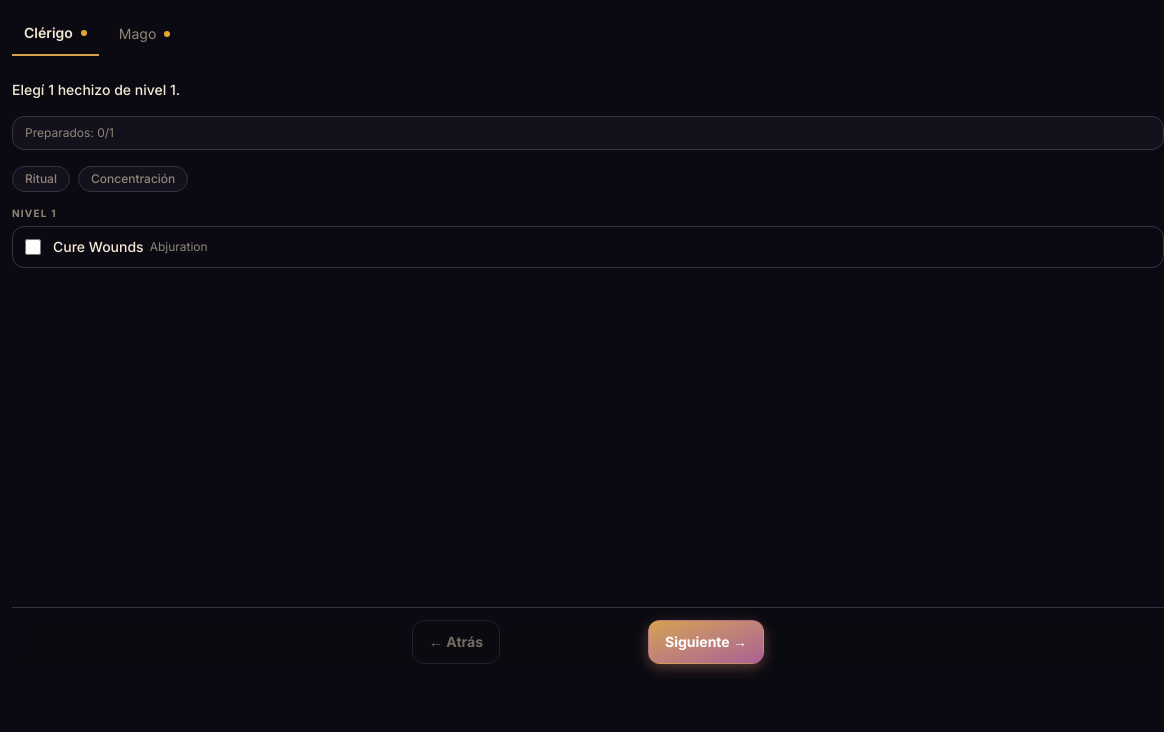
Test: MulticlassSpellsView — tab switch preserves picks (REQ-SP06-TAB-ACTIVE) › 6.2: switching to Wizard tab then back to Cleric tab shows Cleric picker again
Expected: the text "Cure Wounds" is shown, [53,237,144,257]
// Click Wizard tab
Click the tab "Mago".
click(145, 34)  # box [107,12,182,56]
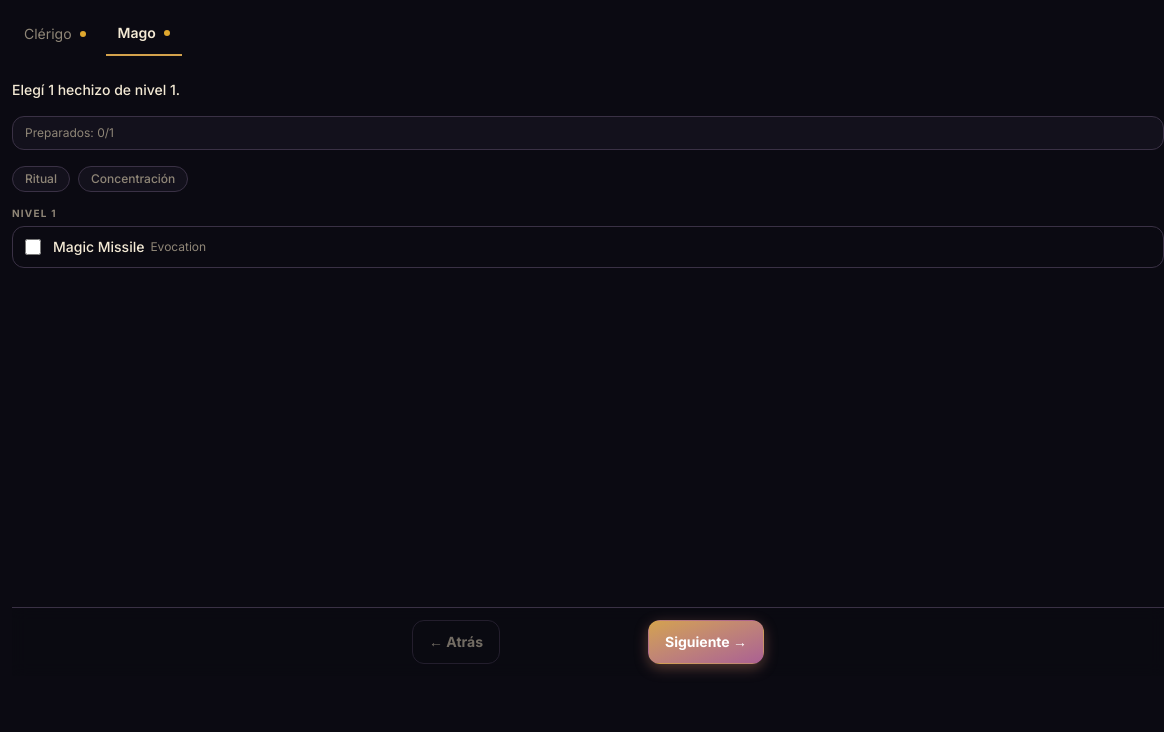
Expected: the text "Magic Missile" is shown, [53,237,144,257]
Expected: the text "Cure Wounds" is gone
// Click back to Cleric tab
Click the tab "Clérigo".
click(55, 34)  # box [12,12,98,56]
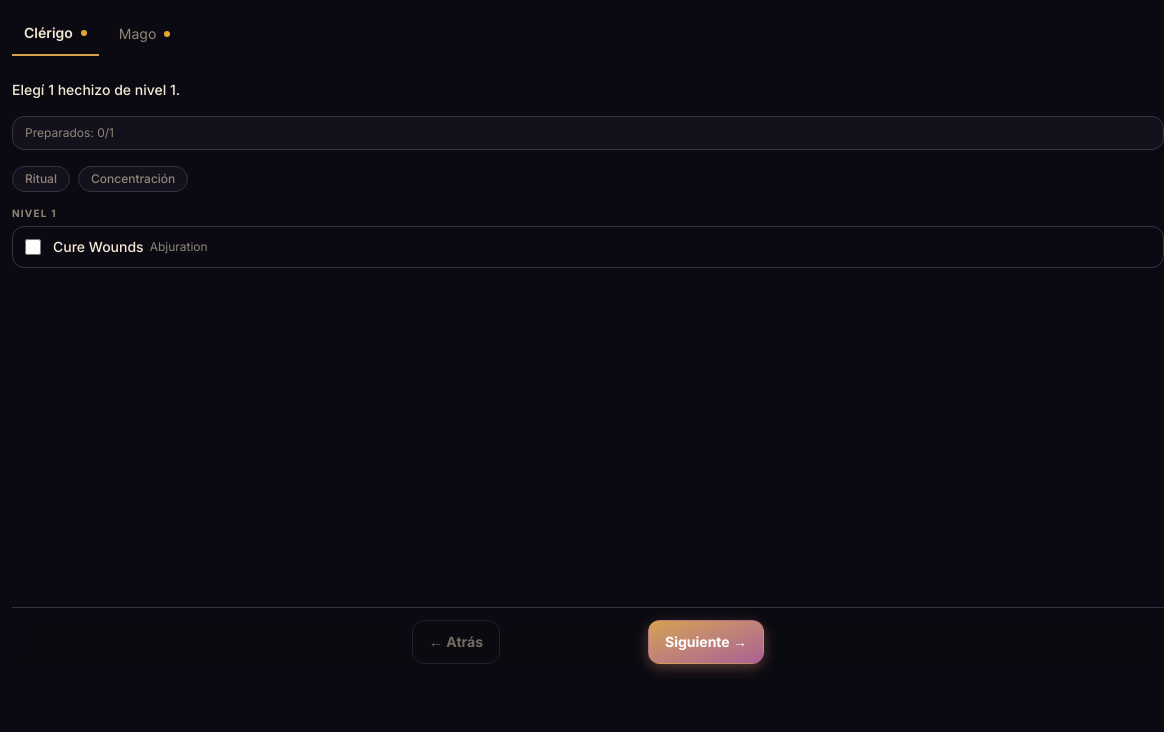
Expected: the text "Cure Wounds" is shown, [53,237,144,257]
